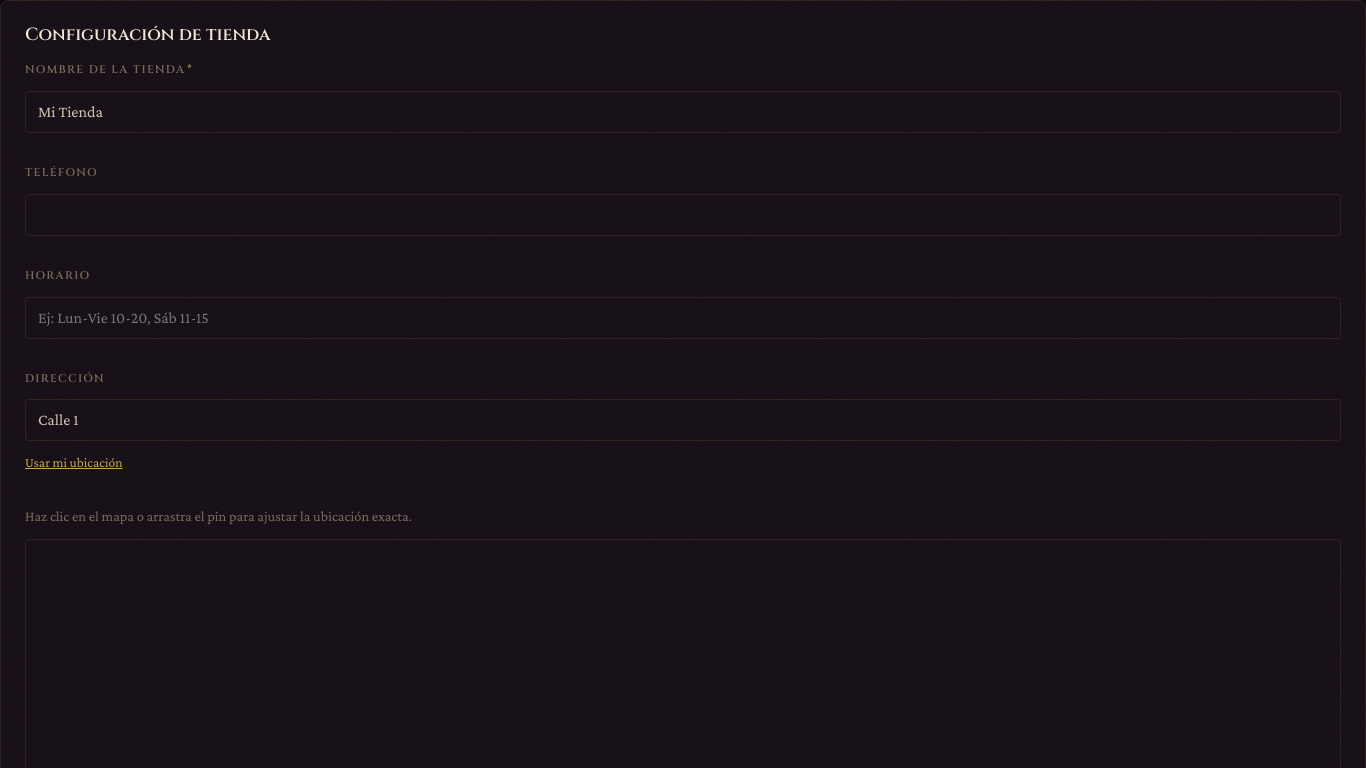
Test: ConfiguracionTiendaTab › selecciona una sugerencia y actualiza el mapa
This screenshot has width=1366, height=768.
Replace the text in the field with placeholder "Ej: Av. Providencia 1234, Santiago" with "Calle Test" at (683, 420), box [25, 399, 1341, 441]
Wait 400 ms
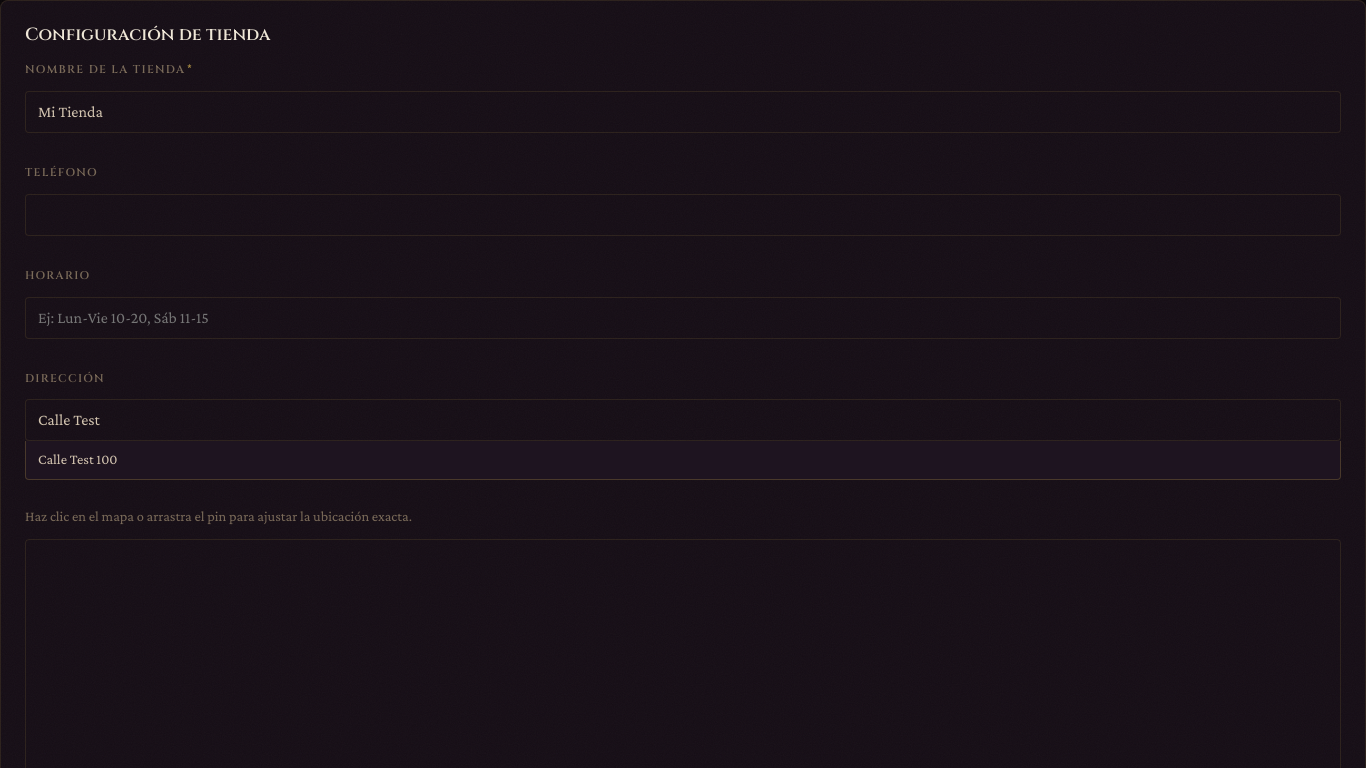
Expected: the list item "Calle Test 100" is shown
# mouseDown to select suggestion
Press the mouse on the list item "Calle Test 100" at (78, 459), box [38, 451, 117, 467]
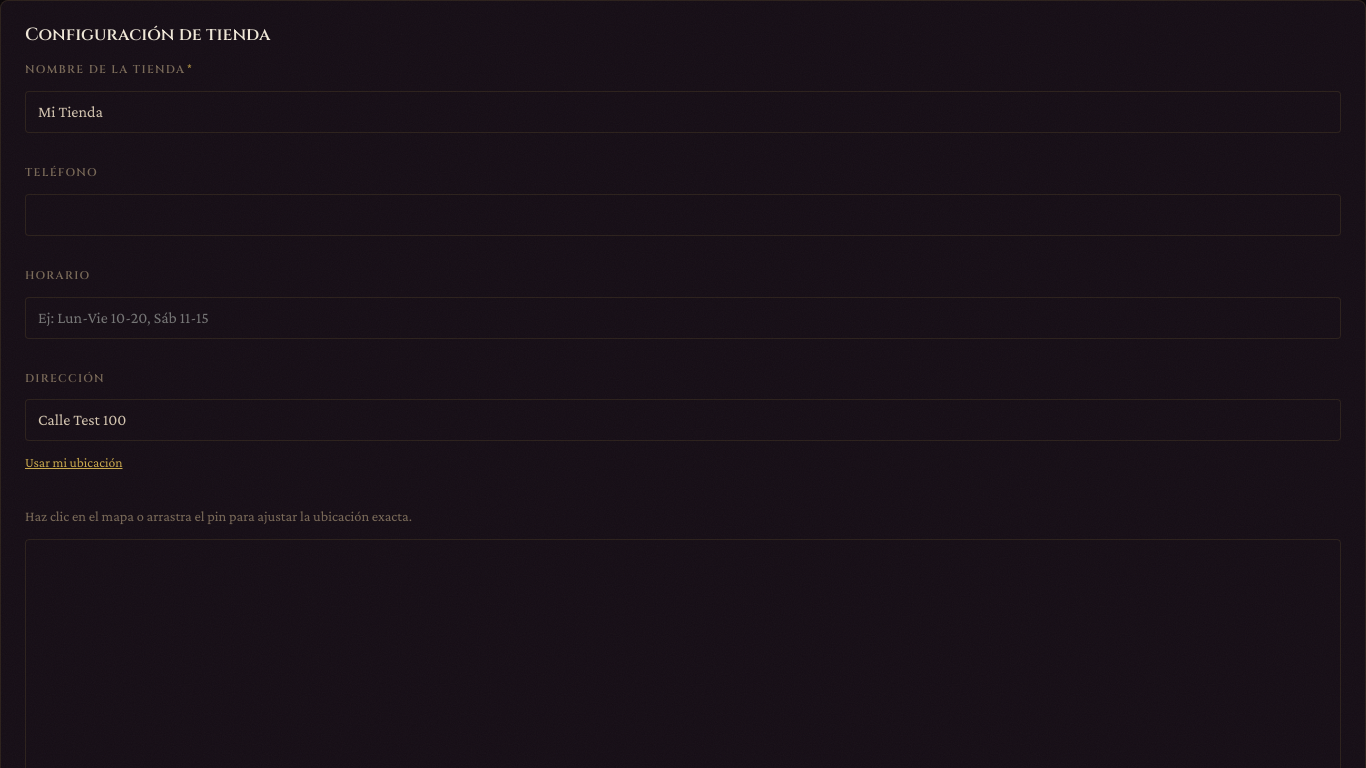
Expected: the field with placeholder "Ej: Av. Providencia 1234, Santiago" holds "Calle Test 100", [25, 399, 1341, 441]
